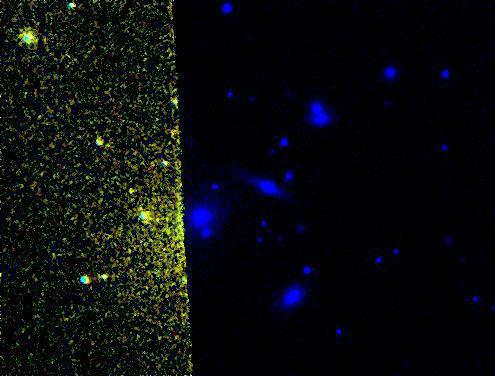star: (115, 176, 145, 206)
